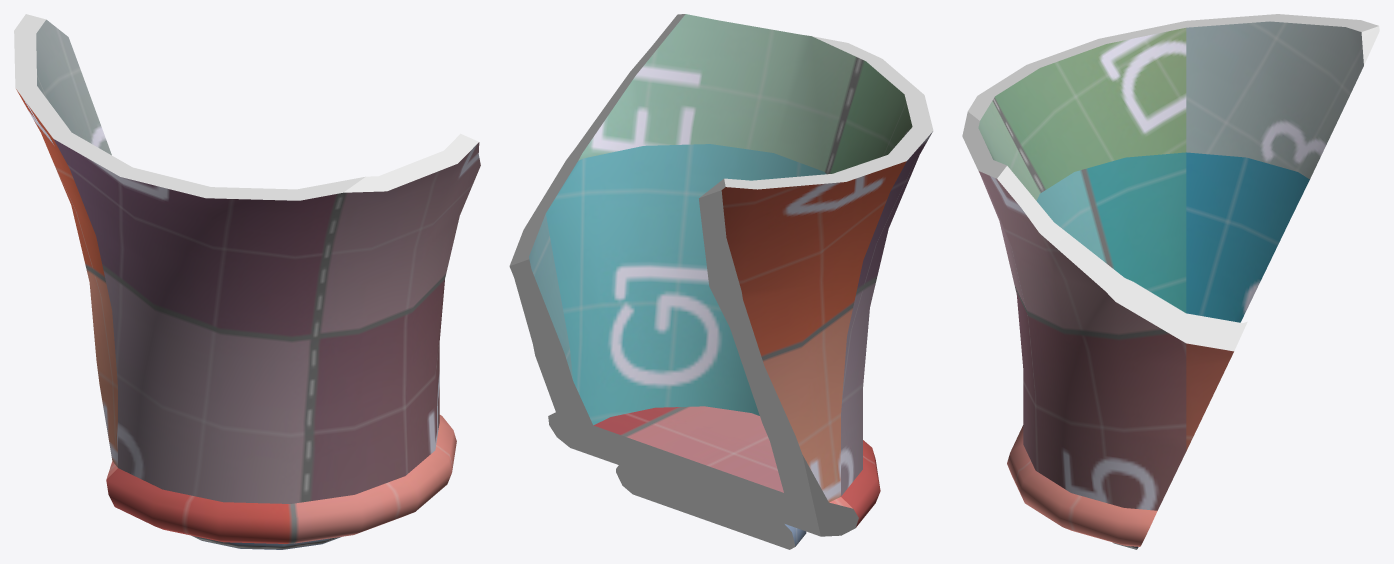
File: LargeVase_SHAT_cell.fbx
The picture shows the model from 3 angles, left to right: view 1: azimuth 30°, elevation 25°; view 2: azimuth 150°, elevation 25°; view 3: azimuth 270°, elevation 25°; orthographic projection. The views are drawn at different scales.
Parts seen in each view (by area): view 1: LargeVase_SHAT_cell.001; view 2: LargeVase_SHAT_cell.001; view 3: LargeVase_SHAT_cell.001.
Part boxes in pixels (x1,y1,x2,y2): LargeVase_SHAT_cell.001: (14, 14, 480, 549); LargeVase_SHAT_cell.001: (509, 14, 933, 549); LargeVase_SHAT_cell.001: (962, 14, 1379, 549).
Size of the model in its own units: 0.9764 by 1.12 by 0.9972.
2 materials, 1 textured.
